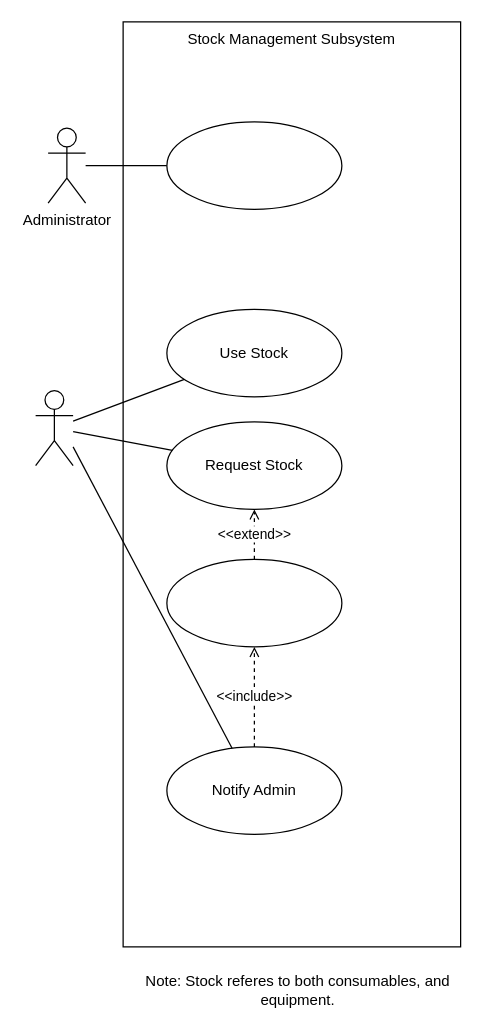
This 495x1031 diagram has some shape labels left out. Each missing label, with the centre of its shape:
"Check for Low Stock" goes at (254,602).
"Employee" goes at (53,427).
"Modify Stock" goes at (254,165).
